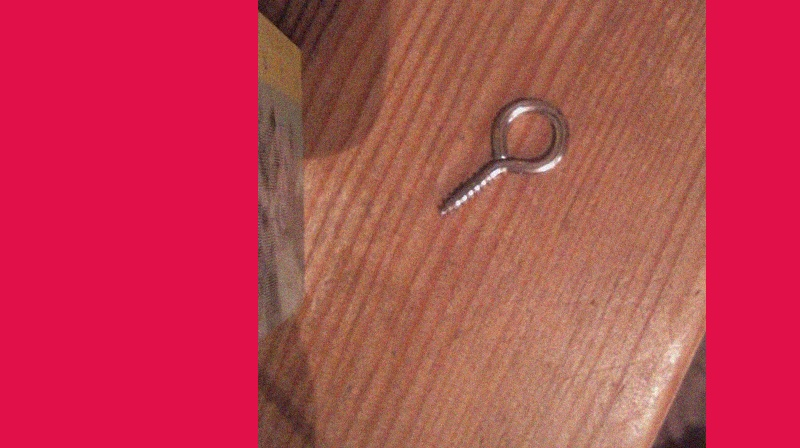O001: (435, 95, 571, 216)
